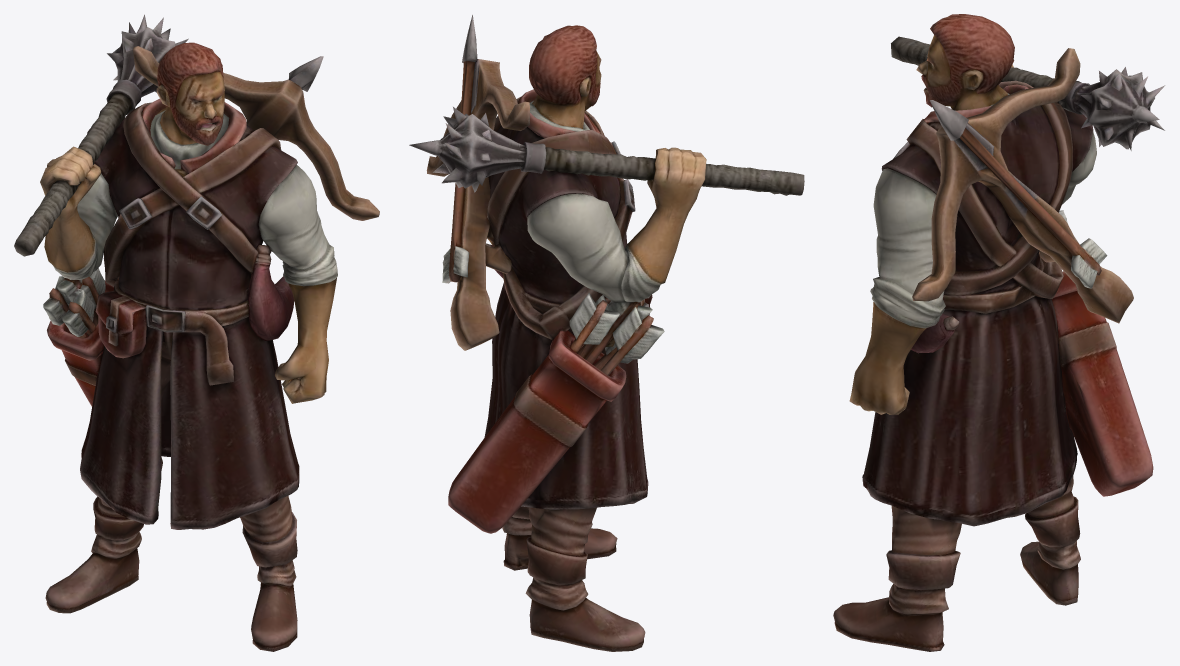
The model's file is MZ4250 - Thug Male 02.glb.
3 views of the same model, side by side, from view 1: azimuth 30°, elevation 25°; view 2: azimuth 150°, elevation 25°; view 3: azimuth 270°, elevation 25° (orthographic). The views are drawn at different scales.
Visible parts, largest first — view 1: ThugMale01; view 2: ThugMale01; view 3: ThugMale01.
Boxes of the visible parts, <box> form: ThugMale01: <box>14,14,379,651</box>; ThugMale01: <box>409,15,804,651</box>; ThugMale01: <box>833,14,1165,651</box>.
Bounding box in the file's own units: 0.7428 × 1.08 × 0.5462.
1 material, 1 textured.
